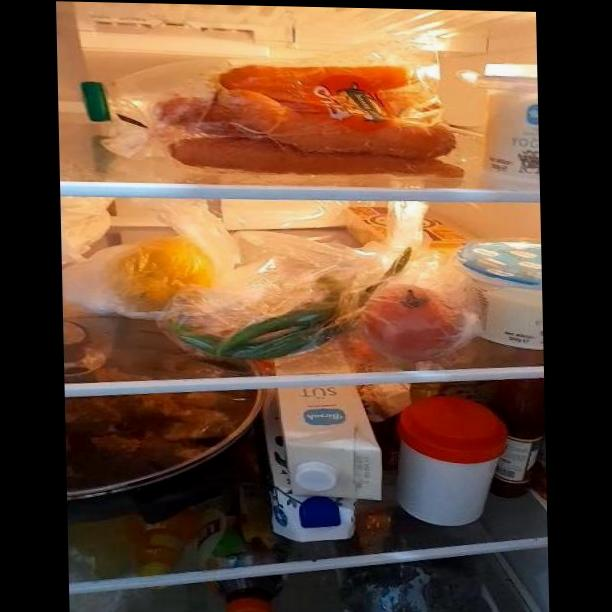broccoli: (345, 569, 496, 612)
carrot: (168, 62, 454, 178)
green chilies: (168, 278, 362, 358)
lemon: (109, 236, 221, 310)
milk: (267, 390, 377, 543)
tomato: (362, 284, 464, 352)
yoghurt: (457, 241, 544, 348)
